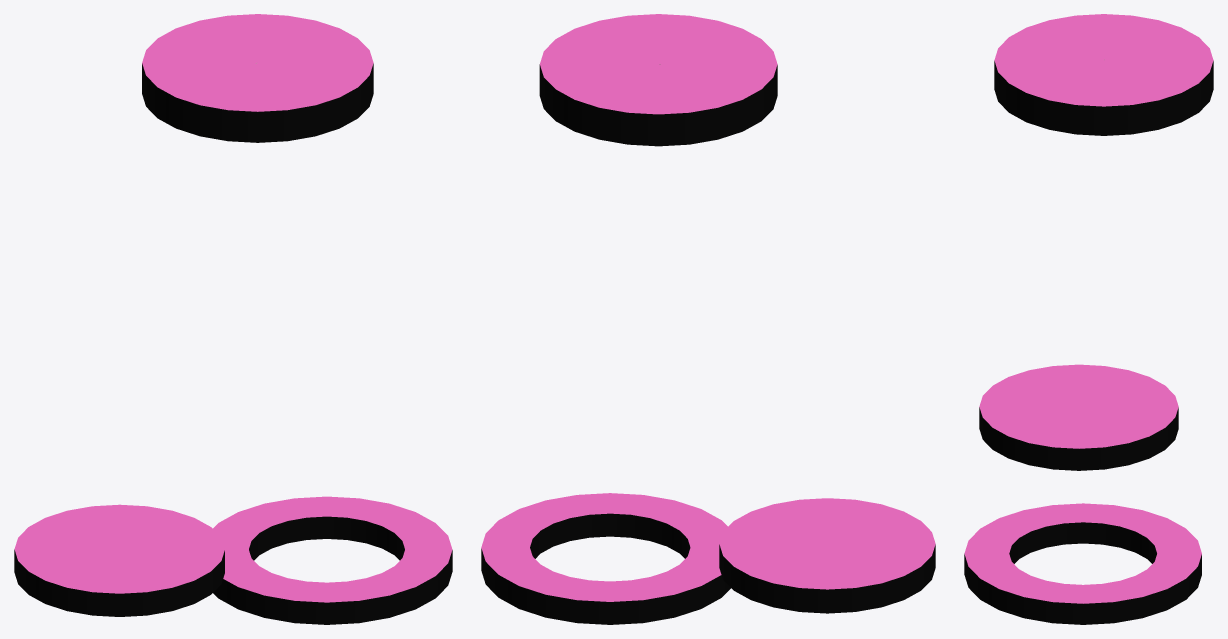
File: spirale.dae
3 views of the same model, side by side, from view 1: azimuth 30°, elevation 25°; view 2: azimuth 150°, elevation 25°; view 3: azimuth 270°, elevation 25° (orthographic). The views are drawn at different scales.
Visible parts, largest first — view 1: SketchUp (×7); view 2: SketchUp (×7); view 3: SketchUp (×7).
Boxes of the visible parts, x1,y1,x2,y2 form: SketchUp (×7): (14, 14, 452, 624); SketchUp (×7): (481, 14, 935, 624); SketchUp (×7): (964, 14, 1213, 624).
Size of the model in its own units: 3392 by 1889 by 4080.
